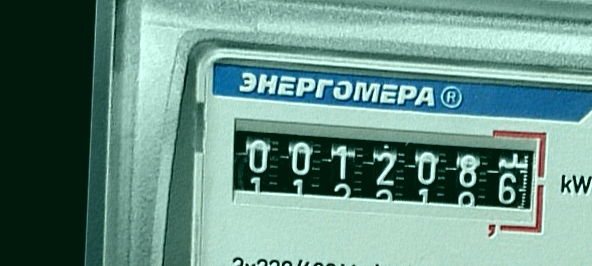0: (245, 135, 272, 175), (413, 149, 439, 186), (289, 139, 314, 177)
1: (330, 142, 353, 182)
2: (372, 149, 400, 188)
6: (495, 169, 519, 206)
8: (454, 152, 481, 190)
screen: (222, 110, 556, 239)
